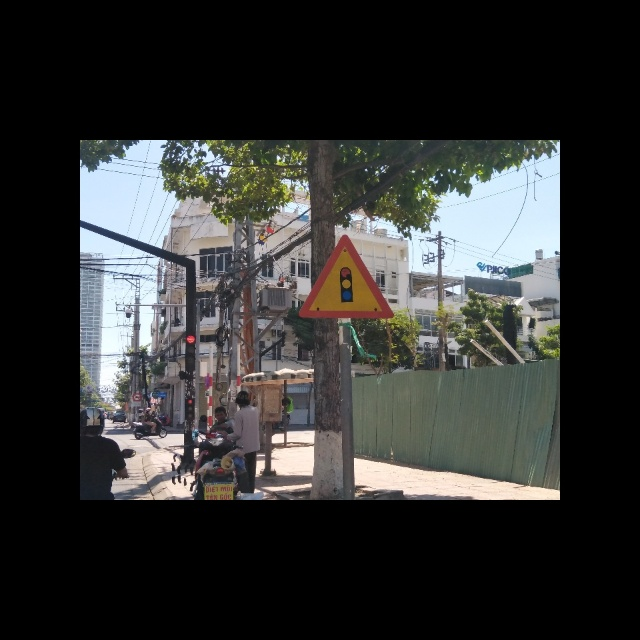Giao nhau có tín hiệu đèn: (291, 232, 395, 320)
Đèn đỏ: (186, 335, 195, 344)
